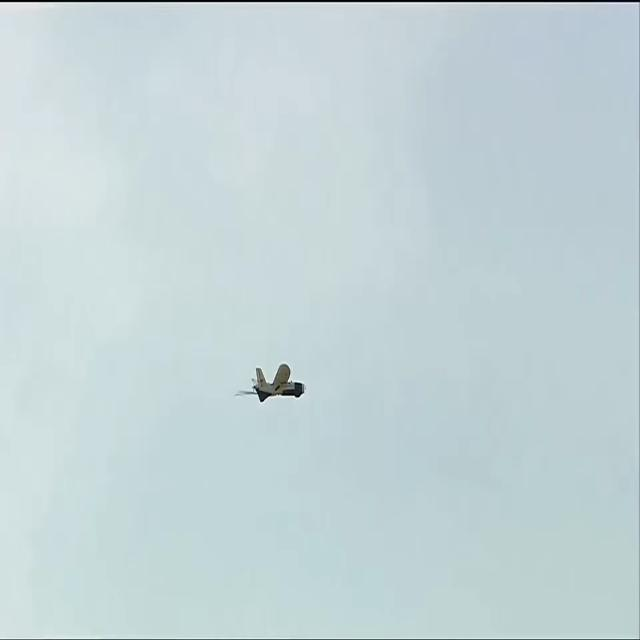iha: (253, 365, 307, 406)
